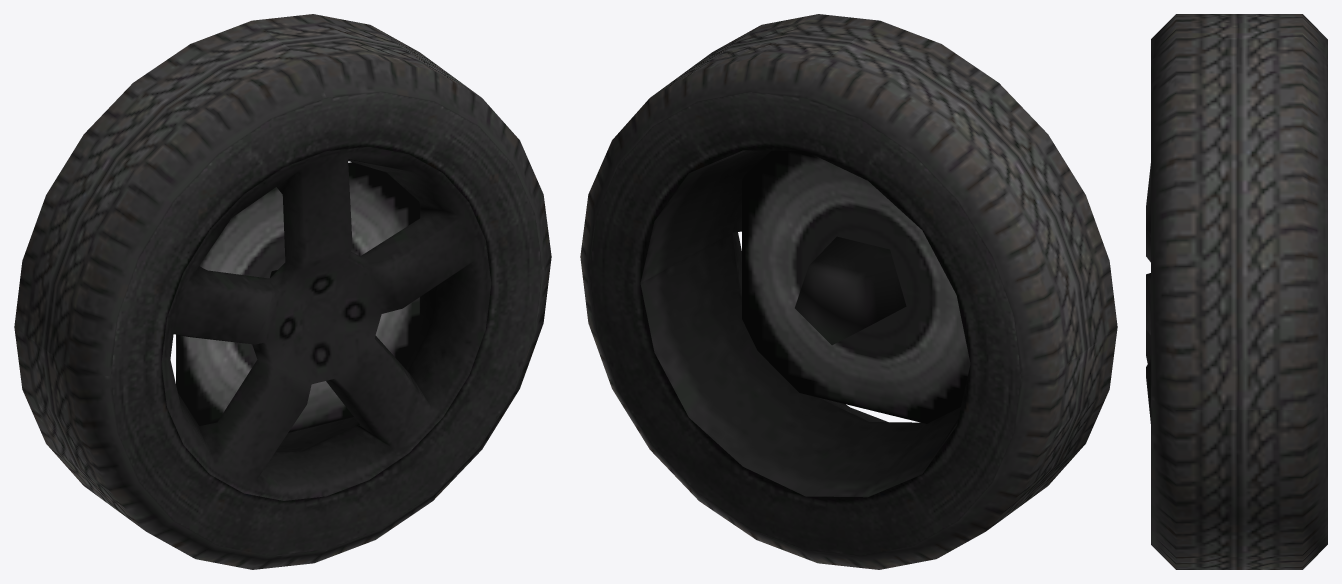
File: V_A_2DrCoupe_Wheels_17_SkeletalMesh3_PartMesh.psk.glb
3 renders of one model, left to right at view 1: azimuth 30°, elevation 25°; view 2: azimuth 150°, elevation 25°; view 3: azimuth 270°, elevation 25°, orthographic.
Bounding box in the file's own units: 68.81 × 68.81 × 22.43.
1 material, 1 textured.
